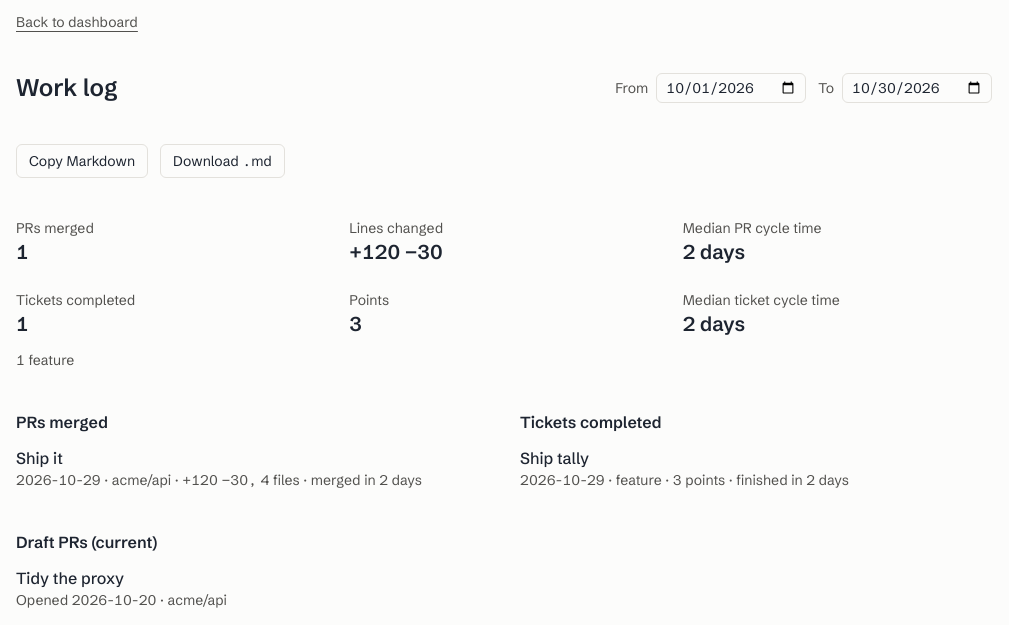
Test: WorkLog › says when copying fails
Click the button "Copy Markdown" at (82, 161), box [16,144,148,178]
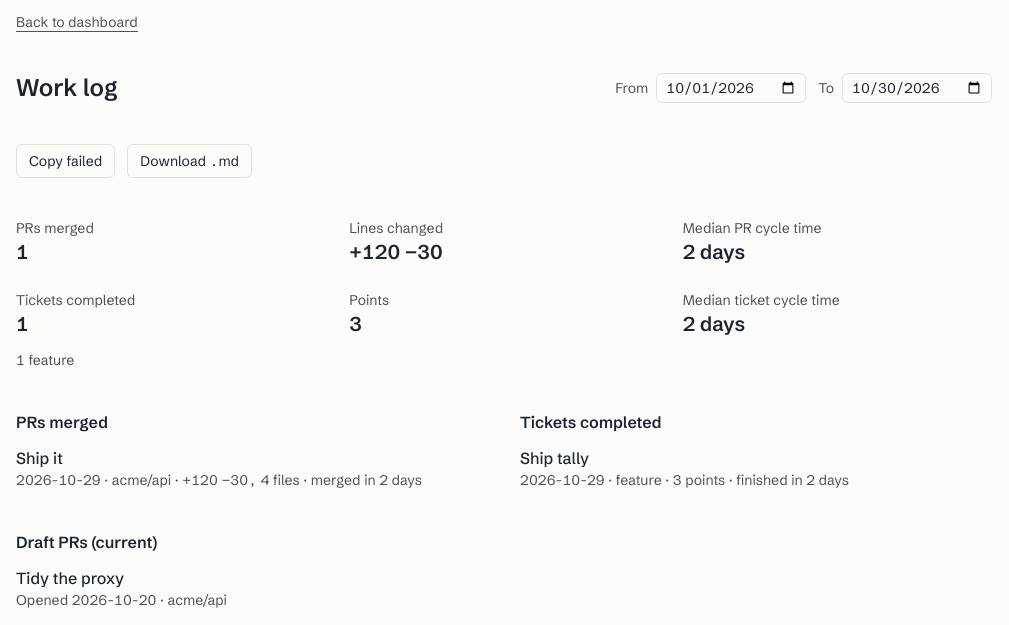
Result: the button "Copy failed" is shown at [16,144,115,178]
